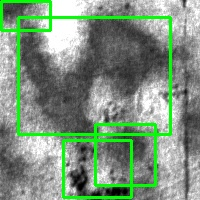inclusion: (63, 140, 131, 197)
patches: (18, 17, 170, 134), (95, 124, 155, 185), (1, 1, 50, 30)
